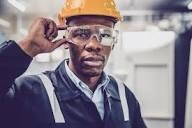safety_goggles: (61, 24, 123, 48)
